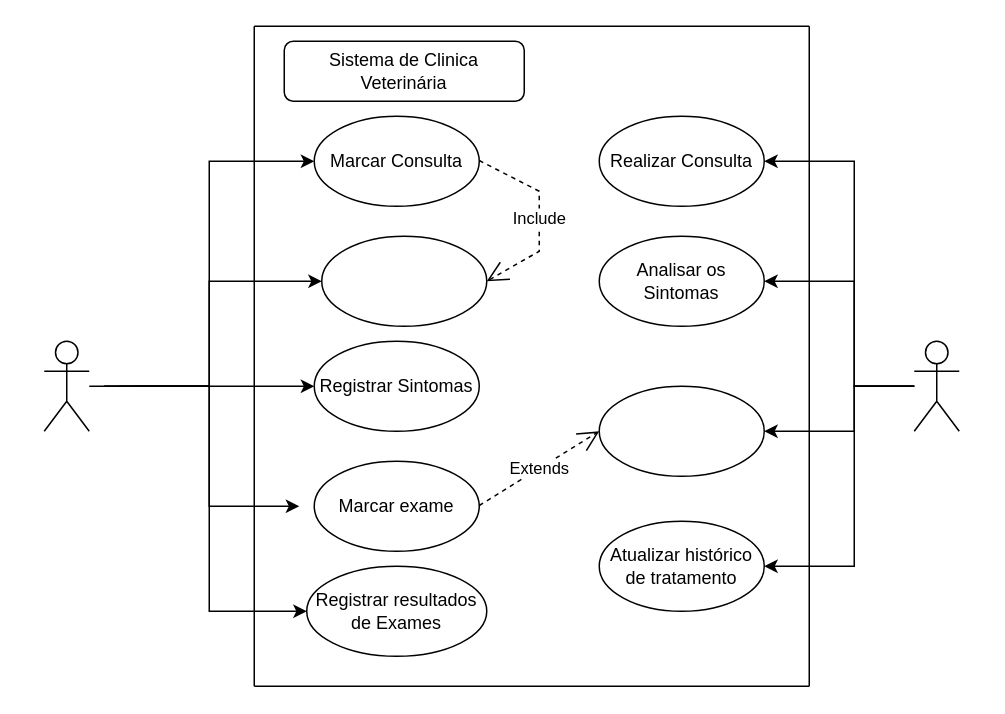
This 1005x714 diagram has some shape labels left out. The centre of each missing label's shape, as x and y in pixels:
"Atualizar cadastro" belongs at [403,280].
"Secretária" belongs at [66,385].
"Solicitar outro exame" belongs at [681,430].
"Veterinário" belongs at [936,385].
